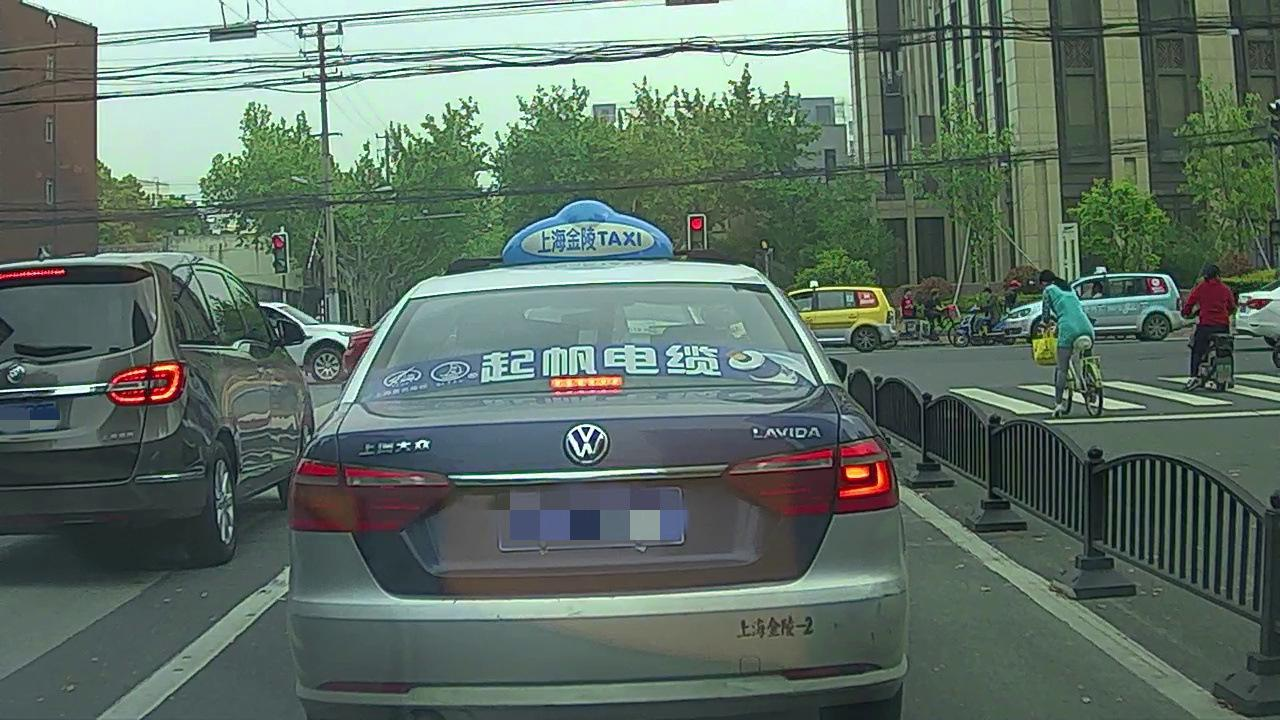traffic_light: (689, 213, 705, 252), (276, 231, 289, 274)
